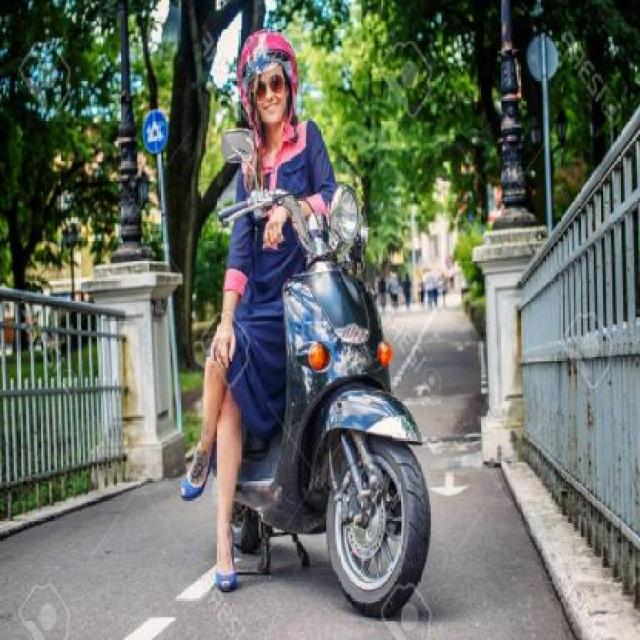helmet: (238, 28, 305, 138)
motorcycle: (175, 27, 447, 627)
